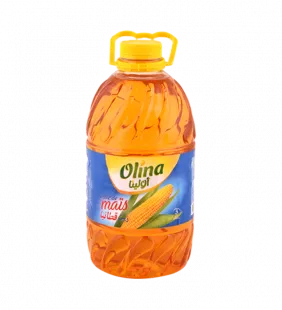OLINA: (76, 20, 204, 284)
